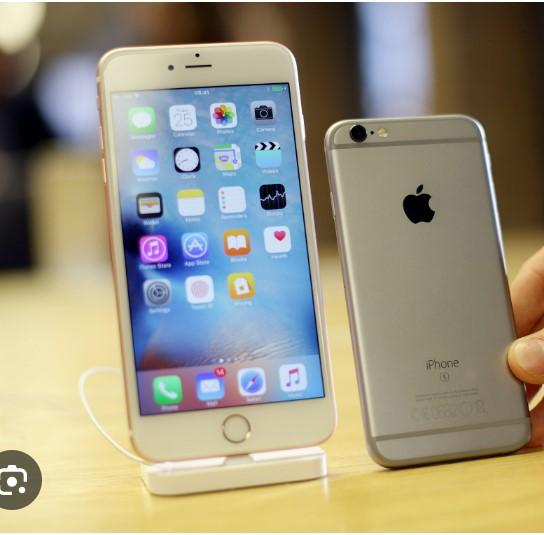Smart Phone: (95, 41, 338, 467), (323, 114, 534, 472)
